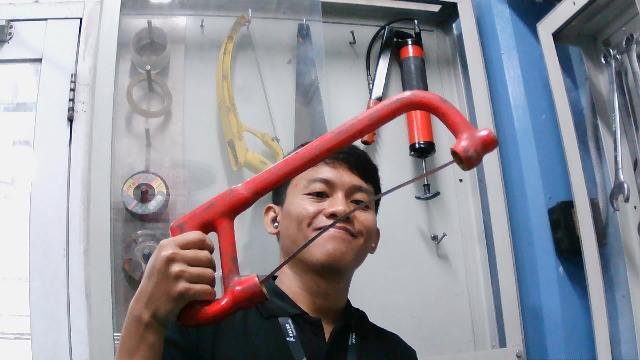gergaji_besi: (157, 88, 500, 328)
